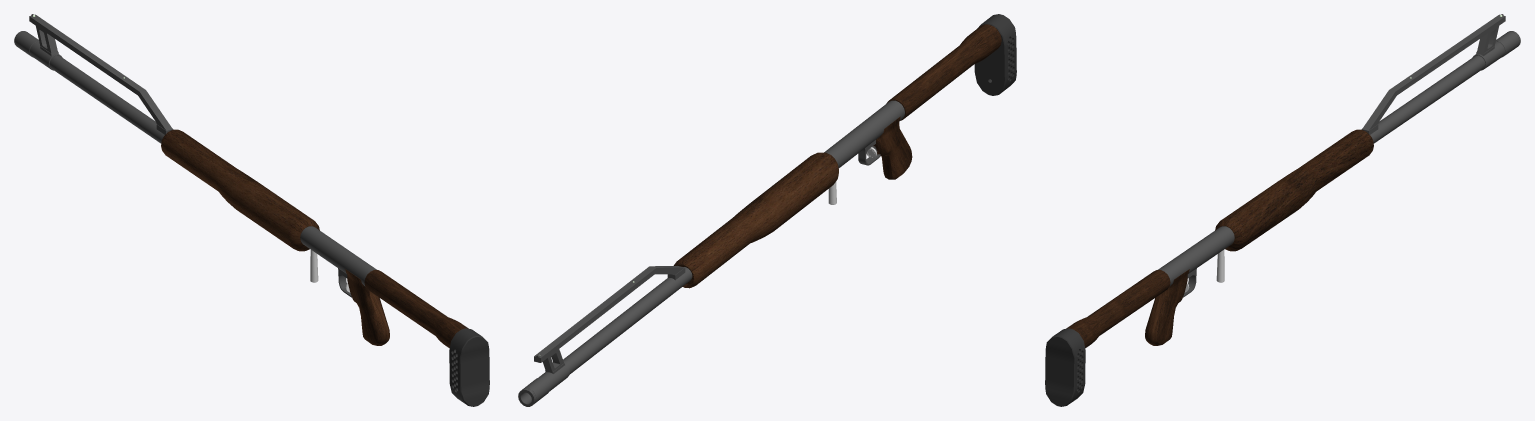
The model's file is bk_ljutic.glb.
3 renders of one model, left to right at view 1: azimuth 30°, elevation 25°; view 2: azimuth 150°, elevation 25°; view 3: azimuth 330°, elevation 25°, orthographic. The views are drawn at different scales.
Visible parts, largest first — view 1: Weapon; view 2: Weapon; view 3: Weapon.
Part boxes in pixels (x1,y1,x2,y2): Weapon: (14, 14, 489, 406); Weapon: (518, 14, 1016, 406); Weapon: (1045, 14, 1520, 406).
Size of the model in its own units: 0.0511 by 0.1334 by 1.32.
7 materials, 1 textured.
